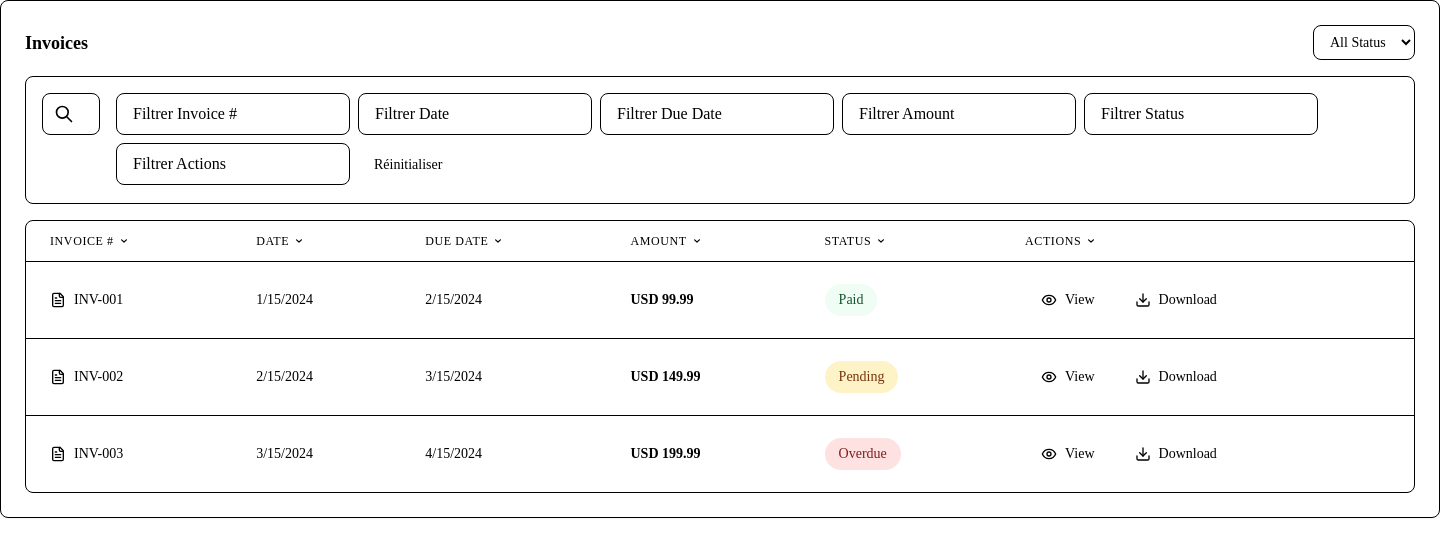
Scenario: InvoiceList Component › Filtering › filters invoices by status
Step 1. Select "Paid" in the dropdown → (1364, 42), box [1313,25,1415,60]
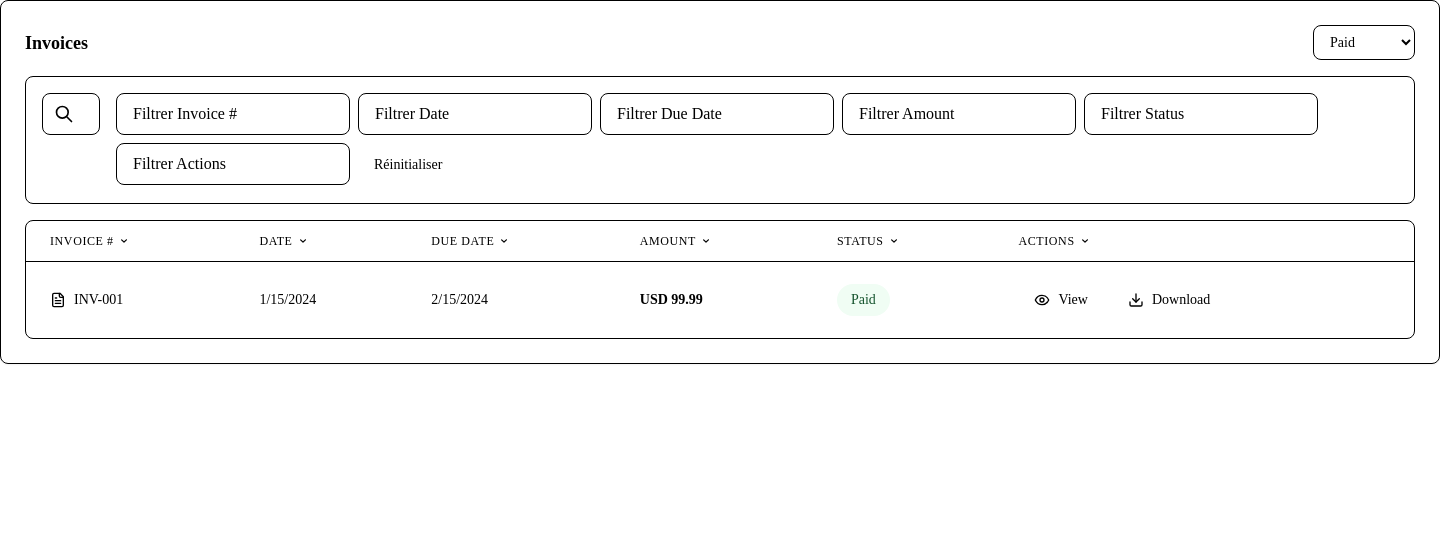
Expected: the text "INV-001" is shown, [74,290,123,310]
Result: the text "INV-002" is gone
